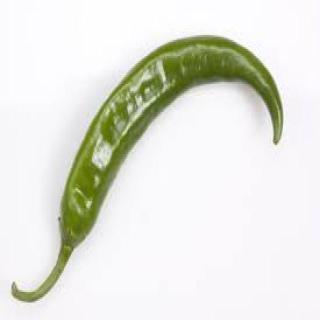Cabai Hijau: (11, 35, 283, 305)
